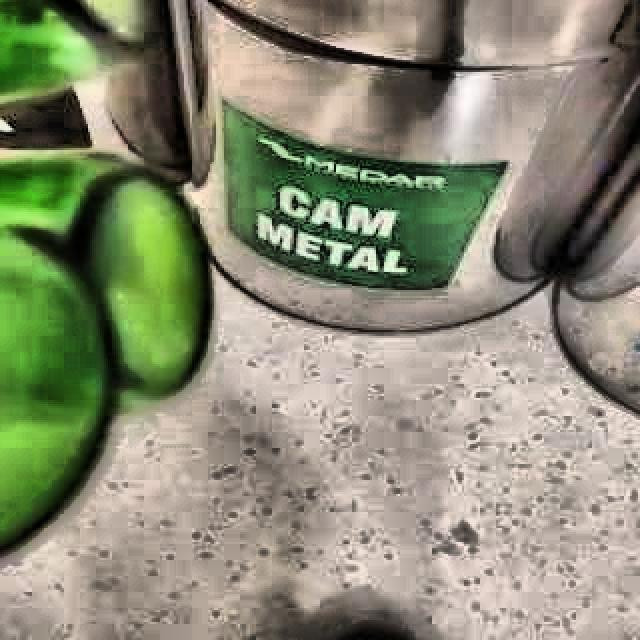glass: (0, 155, 208, 554)
